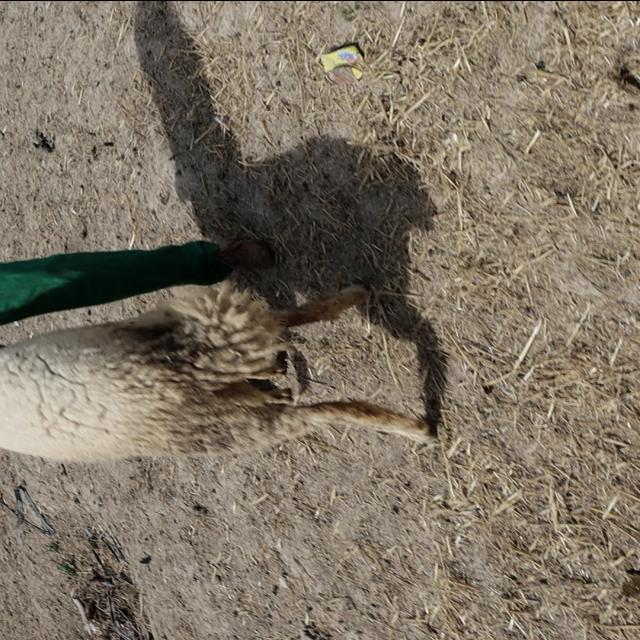Score_4: (0, 282, 434, 461)
